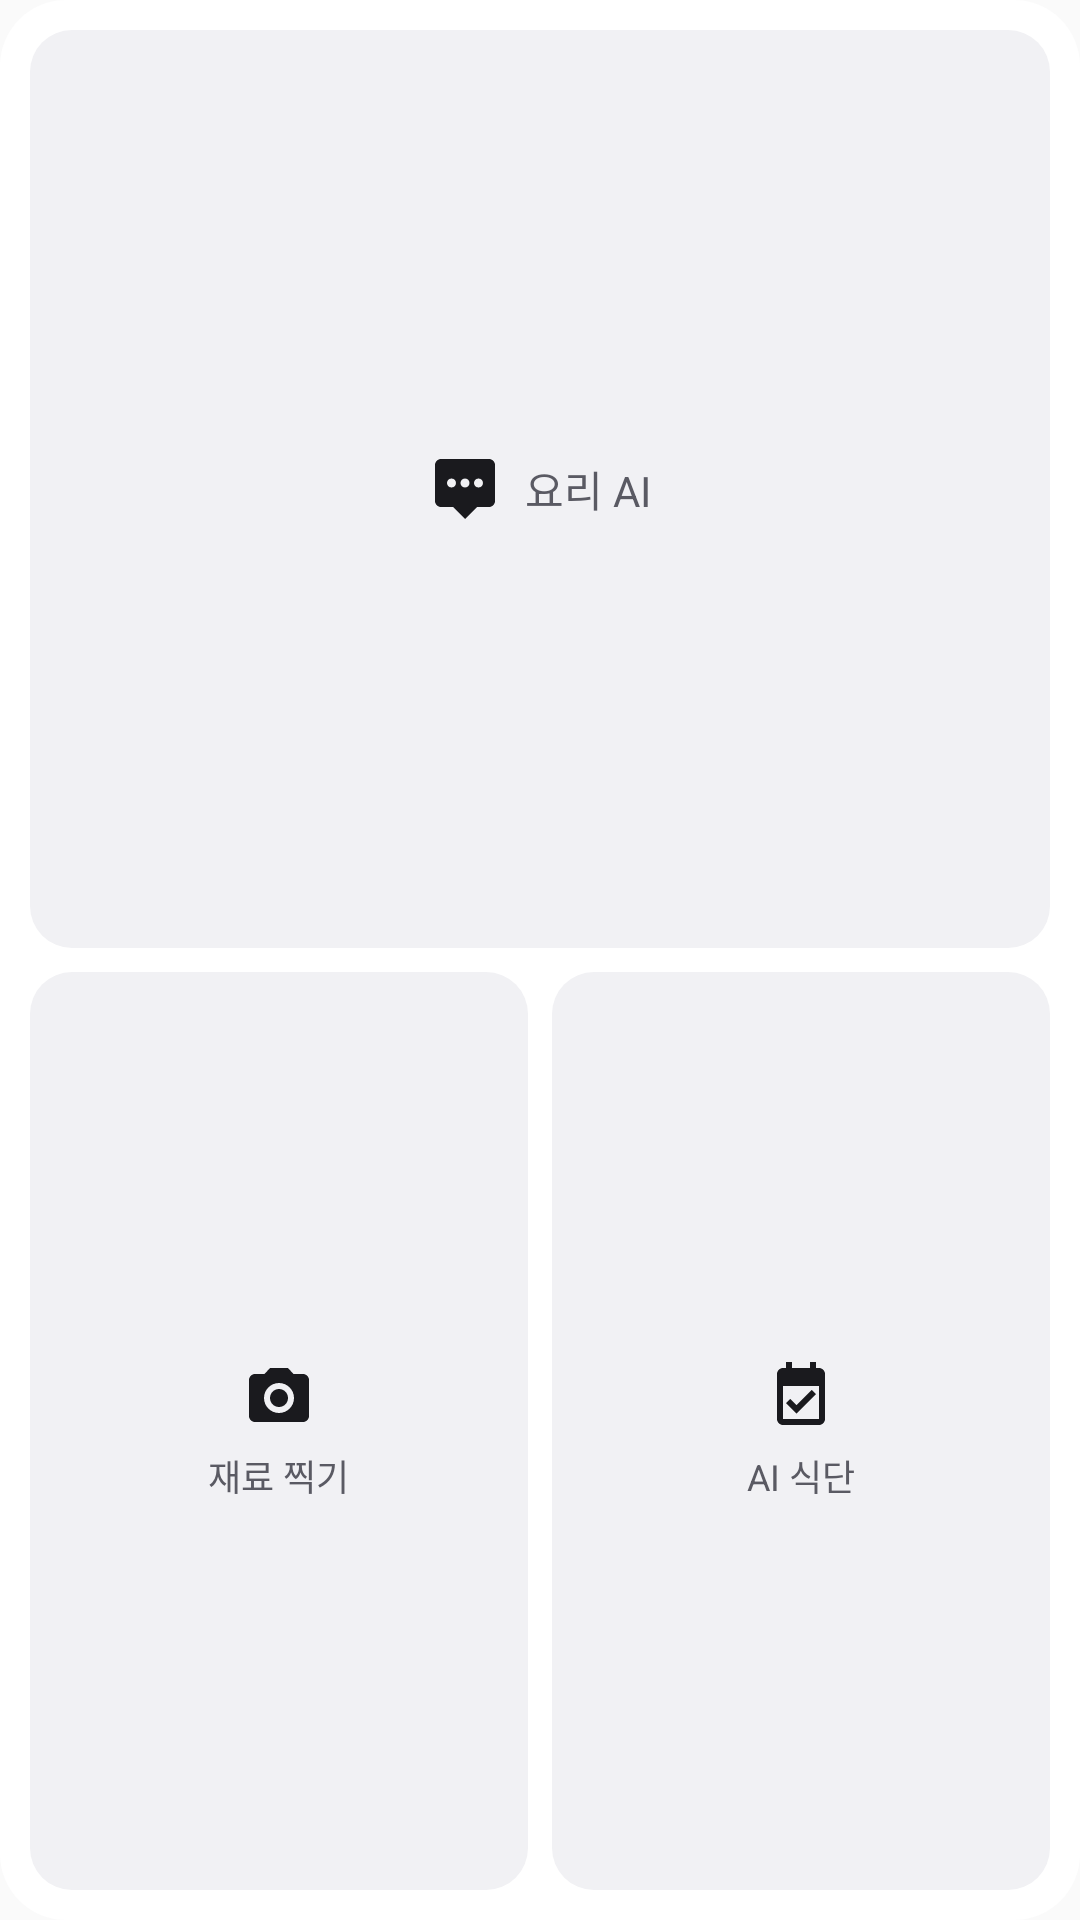

Icons on this 1080 × 1920 Android screen, each with the point to tap as (x=x, y=y):
widget chat: (x=465, y=489)
widget plan: (x=801, y=1393)
